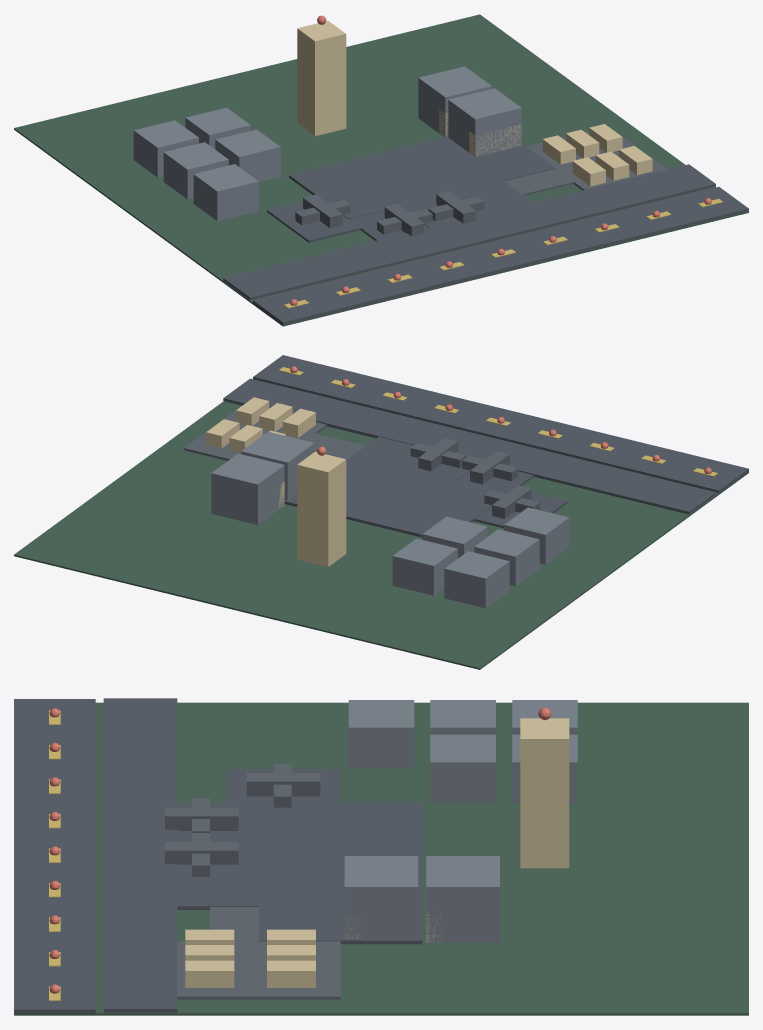
Rendered from stage_19.glb.
The picture shows the model from 3 angles, top to bottom: view 1: azimuth 30°, elevation 25°; view 2: azimuth 150°, elevation 25°; view 3: azimuth 270°, elevation 25°; orthographic projection. The views are drawn at different scales.
Visible parts, largest first — view 1: geometry_0; view 2: geometry_0; view 3: geometry_0.
Part boxes in pixels (<box>): geometry_0: <box>14,14,748,326</box>; geometry_0: <box>14,355,748,669</box>; geometry_0: <box>14,698,748,1015</box>.
Bounding box in the file's own units: 9 × 2.06 × 9.
